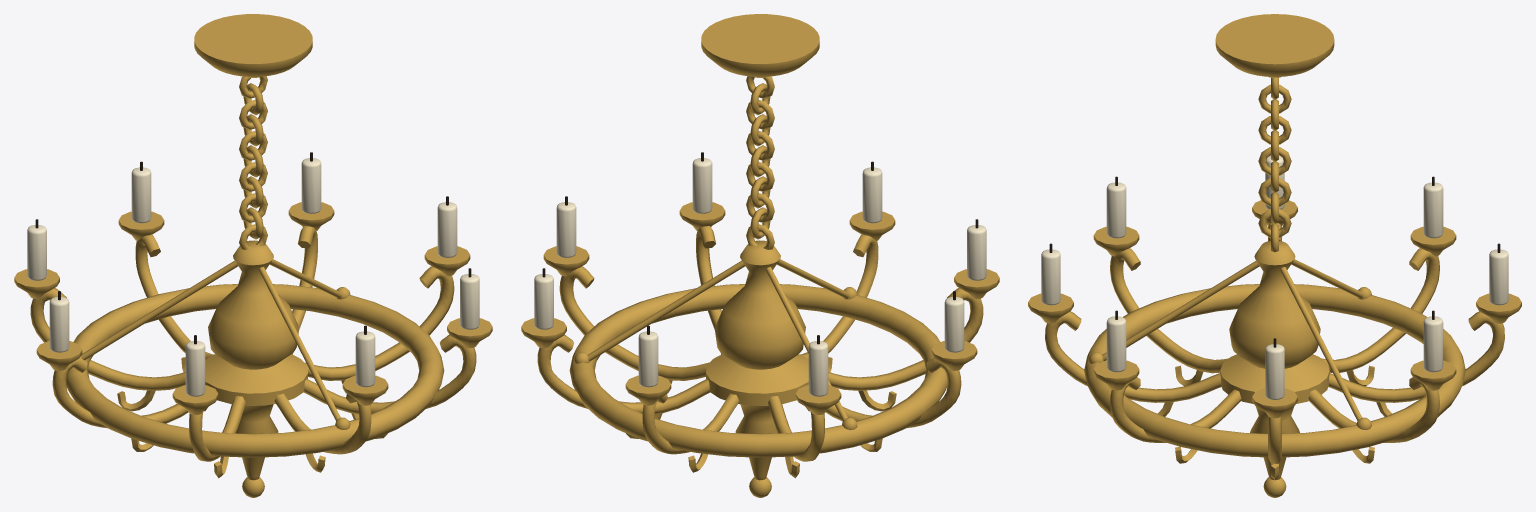
Rendered from brass_chandelier.glb.
3 renders of one model, left to right at view 1: azimuth 30°, elevation 25°; view 2: azimuth 150°, elevation 25°; view 3: azimuth 270°, elevation 25°, orthographic.
Parts seen in each view (by area): view 1: brass_chandelier; view 2: brass_chandelier; view 3: brass_chandelier.
Boxes of the visible parts, <box> form: brass_chandelier: <box>14,14,492,497</box>; brass_chandelier: <box>521,14,999,497</box>; brass_chandelier: <box>1028,14,1521,497</box>.
Bounding box in the file's own units: 2.16 × 2.21 × 2.16.
